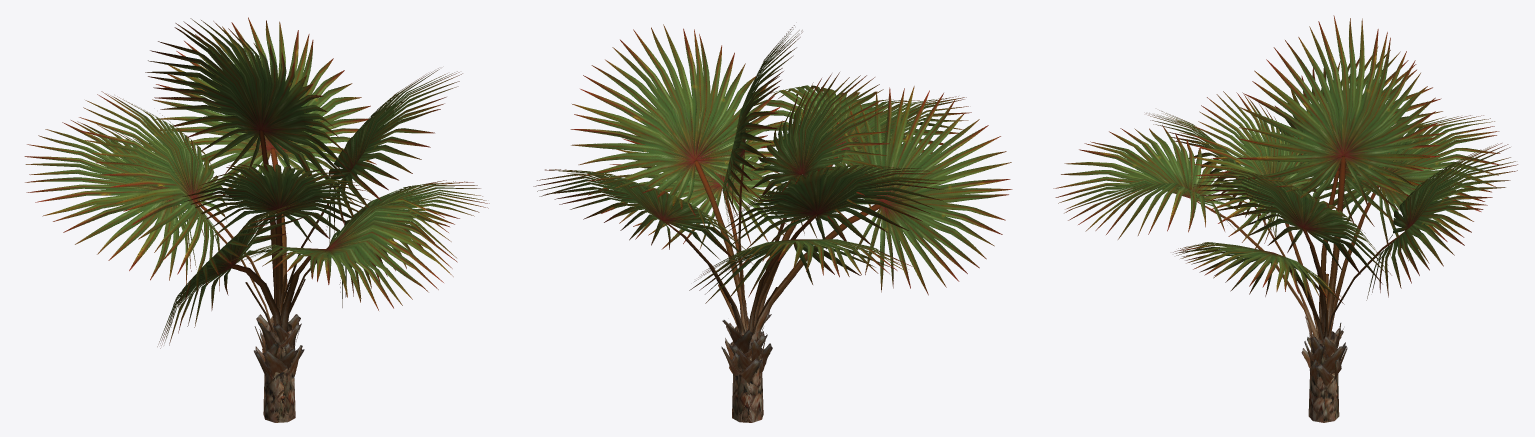
Rendered from MK4_LataniaPalm1.DAE.
The picture shows the model from 3 angles, left to right: view 1: azimuth 30°, elevation 25°; view 2: azimuth 150°, elevation 25°; view 3: azimuth 270°, elevation 25°; orthographic projection. The views are drawn at different scales.
Parts seen in each view (by area): view 1: MK4_LataniaPalm1; view 2: MK4_LataniaPalm1; view 3: MK4_LataniaPalm1.
Part boxes in pixels (bbox=[...]): MK4_LataniaPalm1: bbox=[24, 17, 489, 422]; MK4_LataniaPalm1: bbox=[533, 24, 1012, 422]; MK4_LataniaPalm1: bbox=[1053, 15, 1517, 422].
Size of what is drawn, in the model's own units: 7.81 by 9.02 by 7.95.
